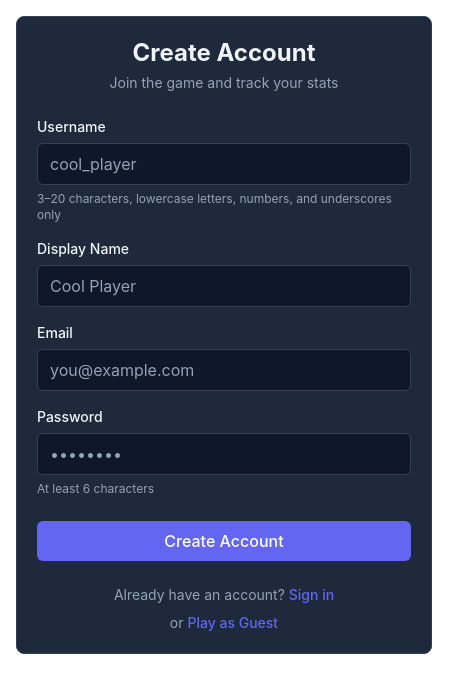
it: RegisterPage › shows field-level errors from API
Step 1. Type "taken_user" into the field labelled "Username" → point(224, 164), box [37,143,411,185]
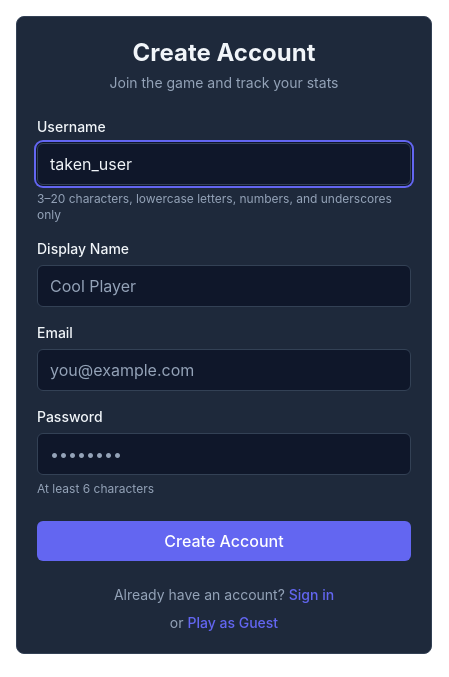
Step 2. Type "Name" into the field labelled "Display Name" → point(224, 286), box [37,265,411,307]
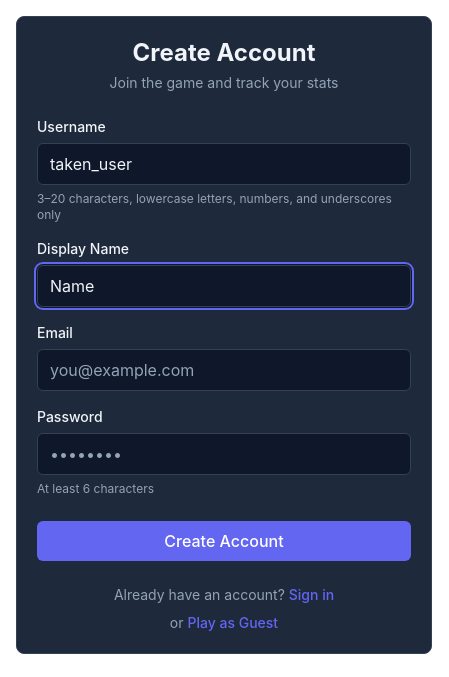
Step 3. Type "dup@example.com" into the field labelled "Email" → point(224, 370), box [37,349,411,391]
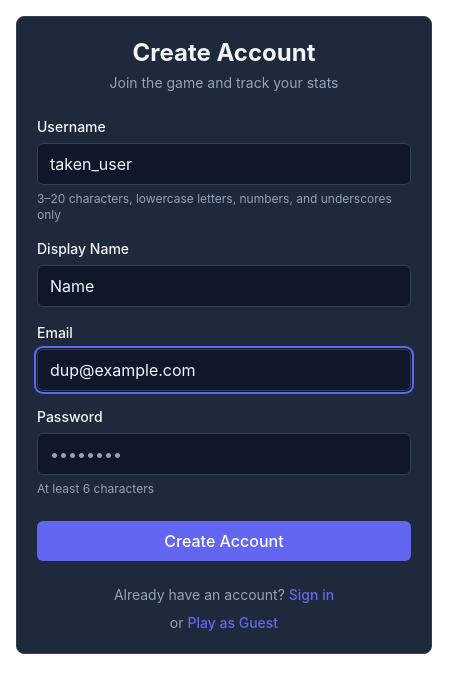
Step 4. Type "secure123" into the password field labelled "Password" → point(224, 454), box [37,433,411,475]
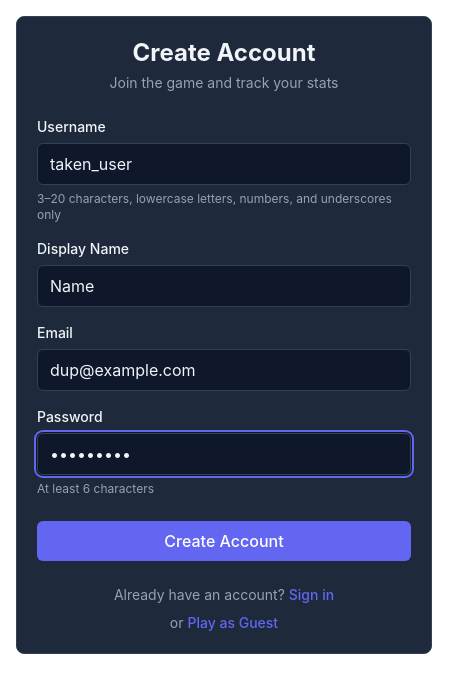
Step 5. Click the button "Create Account" → point(224, 541), box [37,521,411,561]
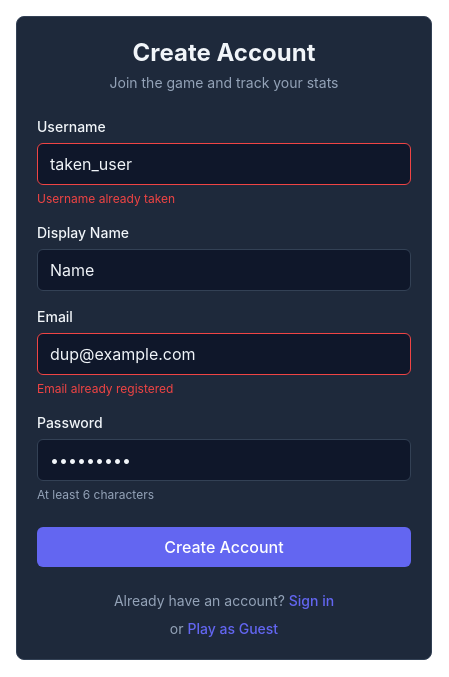
Result: the text "Username already taken" is shown at [37,191,175,206]
Result: the text "Email already registered" is shown at [37,381,173,396]
